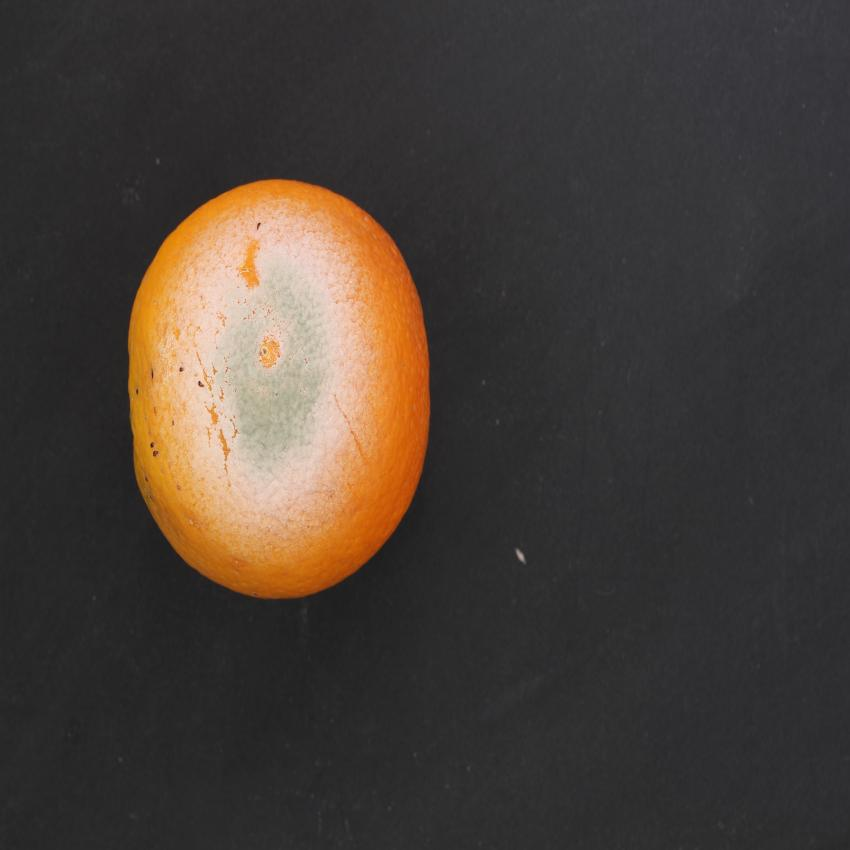Mal estado: (108, 162, 448, 614)
